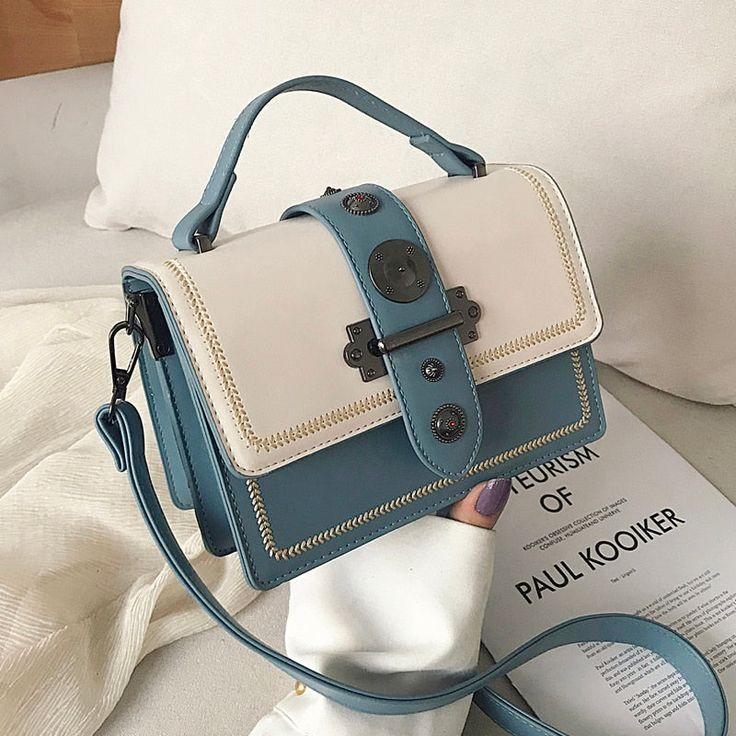cuero: (97, 76, 729, 736)
